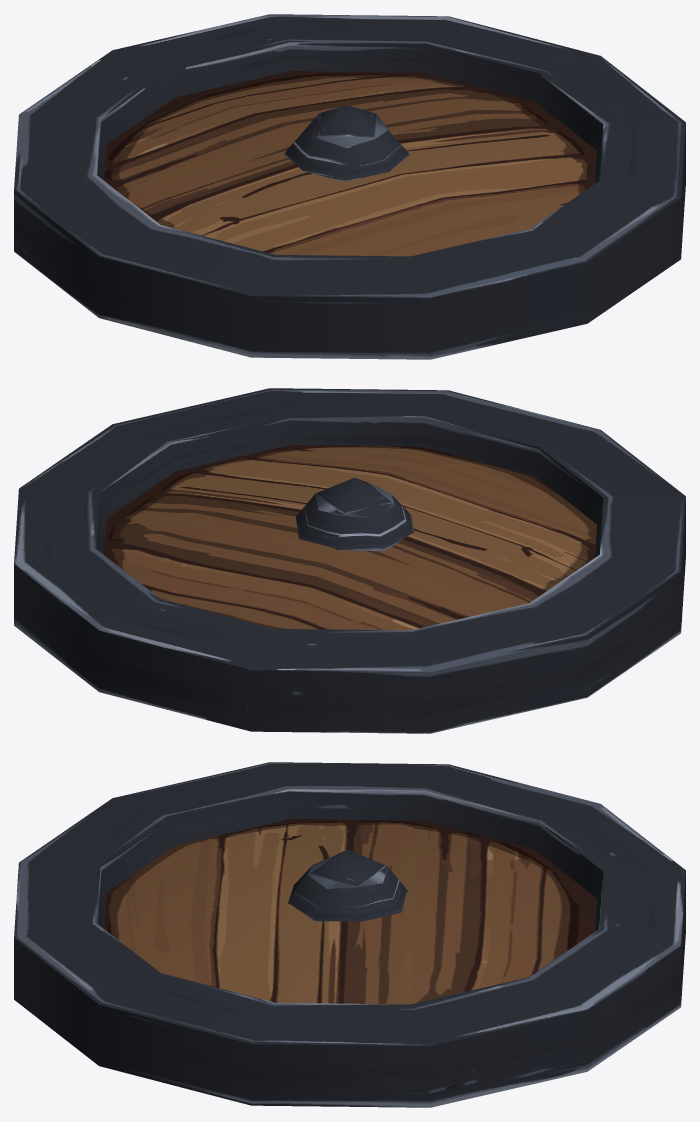
File: SM_PROP_weapon_shield_dungeon_01.fbx
3 views of the same model, one above another, from view 1: azimuth 30°, elevation 25°; view 2: azimuth 150°, elevation 25°; view 3: azimuth 270°, elevation 25° (orthographic).
Visible parts, largest first — view 1: SM_PROP_weapon_shield_dungeon_01; view 2: SM_PROP_weapon_shield_dungeon_01; view 3: SM_PROP_weapon_shield_dungeon_01.
Part boxes in pixels (x1,y1,x2,y2): SM_PROP_weapon_shield_dungeon_01: (14, 14, 685, 359); SM_PROP_weapon_shield_dungeon_01: (14, 388, 685, 733); SM_PROP_weapon_shield_dungeon_01: (14, 762, 685, 1107).
Size of the model in its own units: 63.69 by 12.75 by 63.69.
